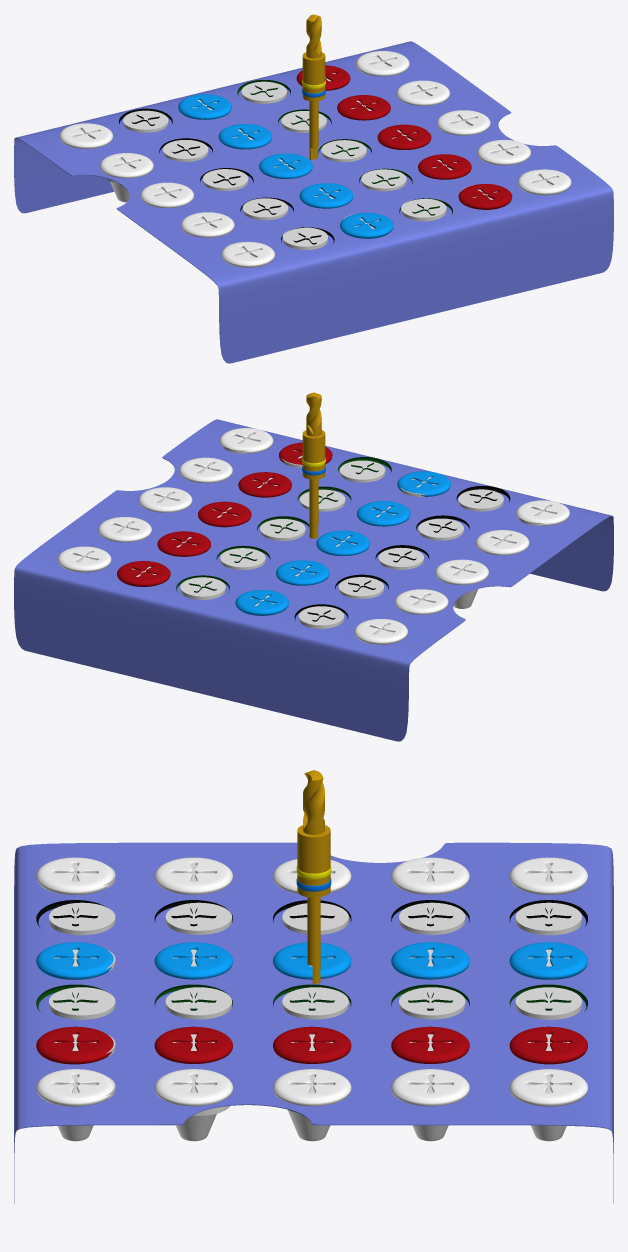
The picture shows the model from 3 angles, top to bottom: view 1: azimuth 30°, elevation 25°; view 2: azimuth 150°, elevation 25°; view 3: azimuth 270°, elevation 25°; orthographic projection. The views are drawn at different scales.
Visible parts, largest first — view 1: Plane, Cylinder.002, Slot.002, Cube, Slot.030, Slot.015, Slot.025, Slot.005, Slot.022, Slot.003, Slot.011, Slot.014 (+12 smaller); view 2: Plane, Cylinder.002, Slot.003, Cube, Slot.026, Slot.001, Slot.011, Slot.021, Slot.002, Slot.022, Slot.028, Slot.012 (+12 smaller); view 3: Plane, Cylinder.002, Slot.029, Slot.028, Slot.026, Slot.027, Slot.030, Cube, Slot.011, Slot.001, Slot.021, Slot.002 (+12 smaller).
Part boxes in pixels (box(x1,y1,x2,y2)): Plane: box(14, 41, 613, 363); Cylinder.002: box(73, 56, 556, 257); Slot.002: box(100, 153, 153, 202); Cube: box(302, 14, 325, 84); Slot.030: box(517, 169, 571, 195); Slot.015: box(340, 212, 393, 238); Slot.025: box(458, 184, 512, 209); Slot.005: box(221, 241, 274, 267); Slot.022: box(337, 95, 390, 120); Slot.003: box(140, 182, 193, 207); Slot.011: box(178, 94, 231, 119); Slot.014: box(299, 183, 353, 208); Plane: box(14, 419, 613, 741); Cylinder.002: box(72, 433, 555, 634); Slot.003: box(435, 559, 488, 608); Cube: box(302, 392, 325, 462); Slot.026: box(57, 546, 111, 572); Slot.001: box(354, 619, 407, 644); Slot.011: box(235, 590, 288, 615); Slot.021: box(117, 561, 170, 586); Slot.002: box(394, 589, 448, 614); Slot.022: box(157, 531, 210, 556); Slot.028: box(138, 487, 192, 512); Slot.012: box(276, 560, 329, 585); Plane: box(14, 842, 613, 1203); Cylinder.002: box(49, 865, 582, 1115); Slot.029: box(154, 1069, 232, 1141); Slot.028: box(273, 1069, 351, 1141); Slot.026: box(509, 1069, 587, 1141); Slot.027: box(391, 1069, 469, 1141); Slot.030: box(36, 1069, 113, 1141); Cube: box(297, 770, 330, 873); Slot.011: box(509, 942, 587, 979); Slot.001: box(509, 857, 587, 894); Slot.021: box(509, 1026, 587, 1064); Slot.002: box(391, 857, 469, 894).
Bounding box in the file's own units: 0.1 × 0.0553 × 0.09.
